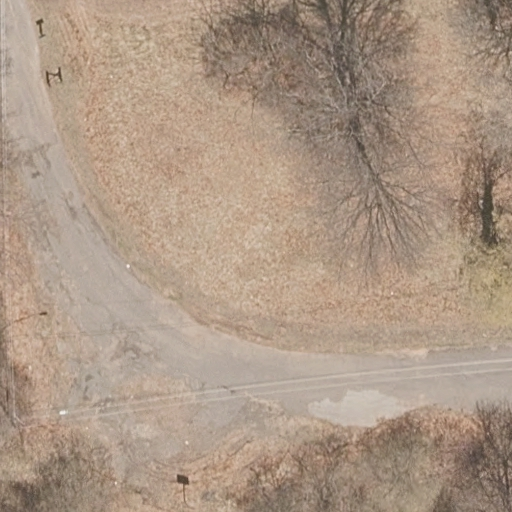DT: (2, 407, 31, 434)
